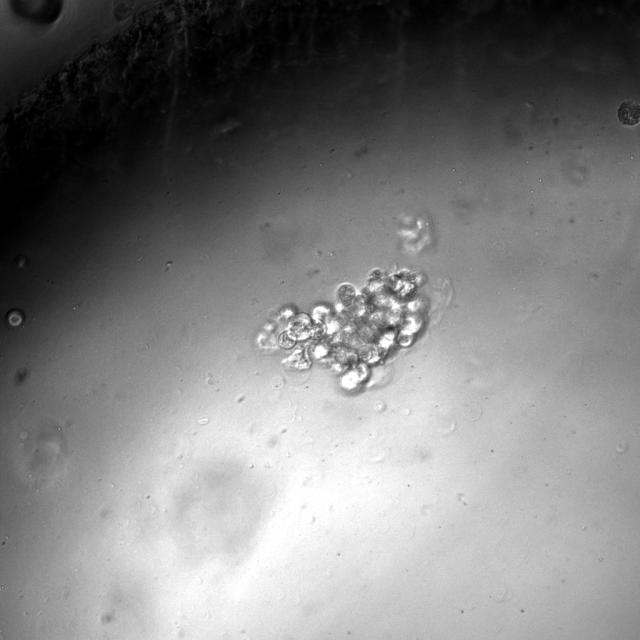organoid: (257, 269, 428, 390), (397, 211, 436, 254), (616, 99, 639, 127), (6, 308, 24, 327)
